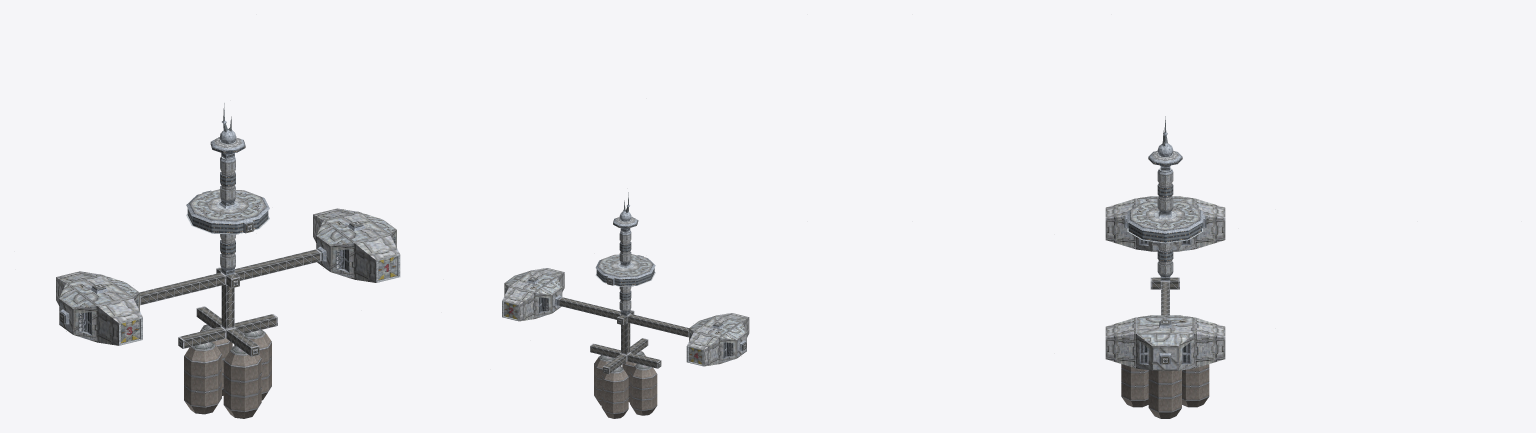
Rendered from outpost.obj.
The picture shows the model from 3 angles, left to right: view 1: azimuth 30°, elevation 25°; view 2: azimuth 150°, elevation 25°; view 3: azimuth 270°, elevation 25°; orthographic projection. The views are drawn at different scales.
Parts seen in each view (by area): view 1: port; view 2: port; view 3: port.
Part boxes in pixels (x1,y1,x2,y2): port: [56, 103, 400, 418]; port: [502, 192, 749, 418]; port: [1105, 116, 1225, 418].
Bounding box in the file's own units: 672 × 804 × 1320.
Materials: 13 (13 with a texture image).
